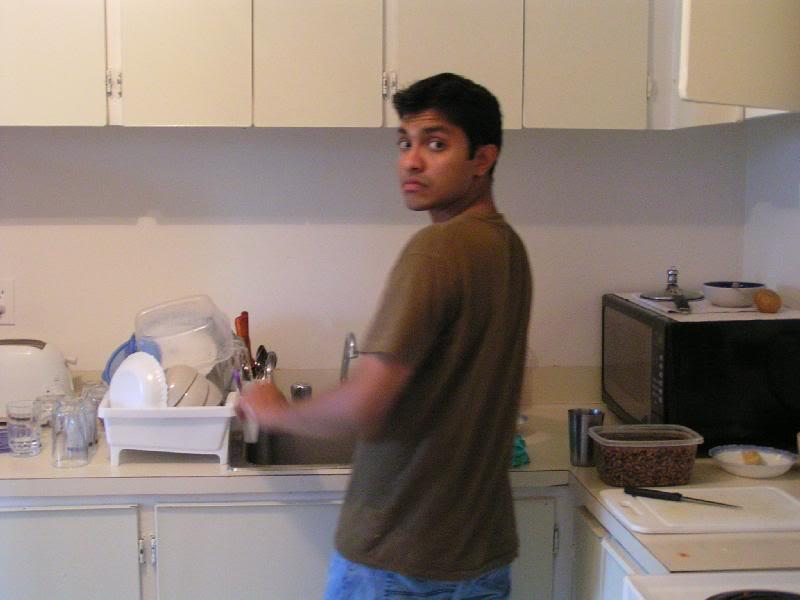person: (232, 72, 536, 600)
